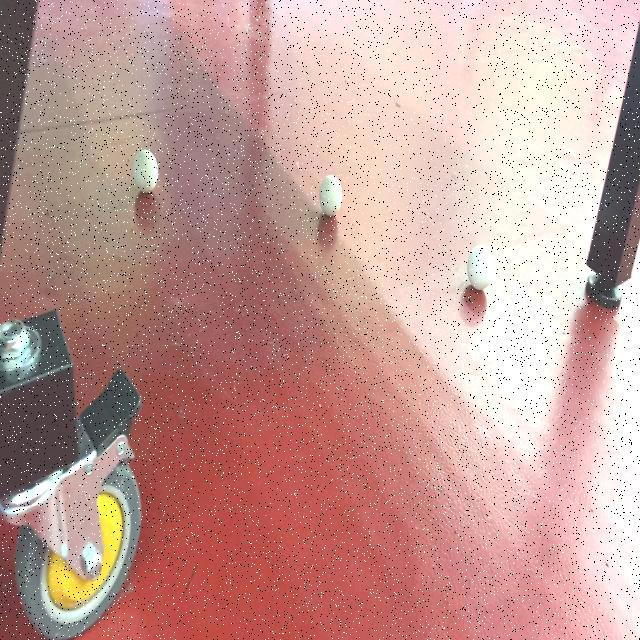ping-pong-ball: (132, 147, 160, 195), (466, 243, 494, 291), (318, 172, 343, 218)
